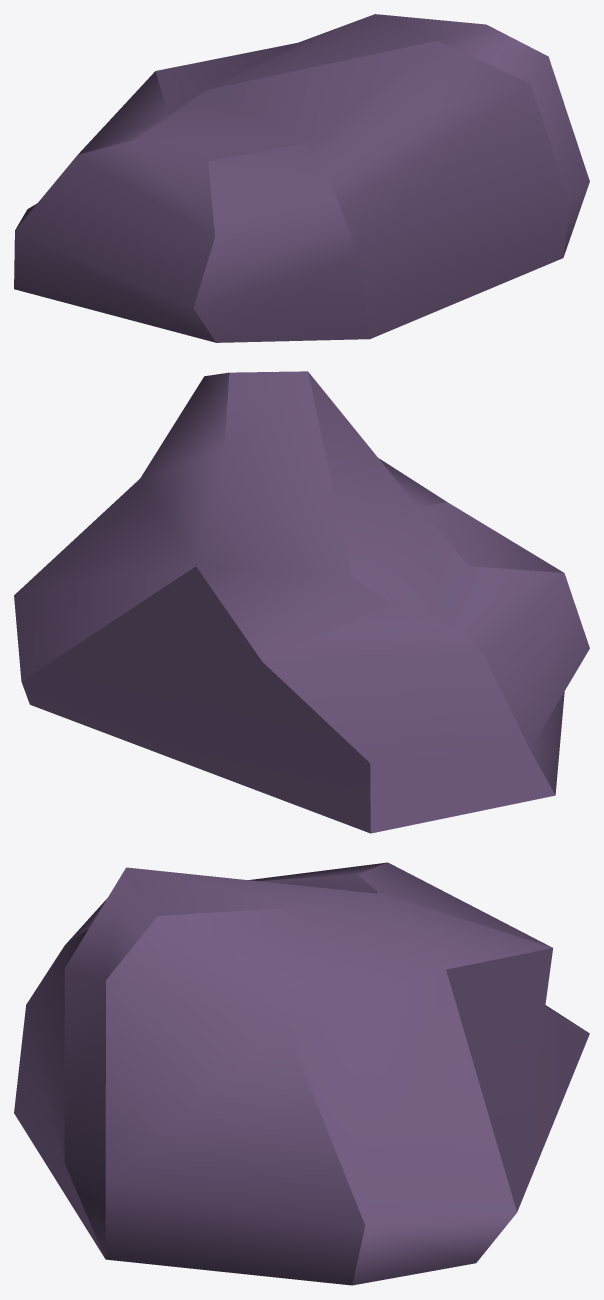
File: sm_rock_04.fbx
The picture shows the model from 3 angles, top to bottom: view 1: azimuth 30°, elevation 25°; view 2: azimuth 150°, elevation 25°; view 3: azimuth 270°, elevation 25°; orthographic projection. The views are drawn at different scales.
Parts seen in each view (by area): view 1: sm_rock_04; view 2: sm_rock_04; view 3: sm_rock_04.
Boxes of the visible parts, x1,y1,x2,y2 form: sm_rock_04: [14, 14, 589, 342]; sm_rock_04: [14, 371, 589, 833]; sm_rock_04: [14, 862, 589, 1285].
Bounding box in the file's own units: 2.57 × 1.17 × 1.92.
